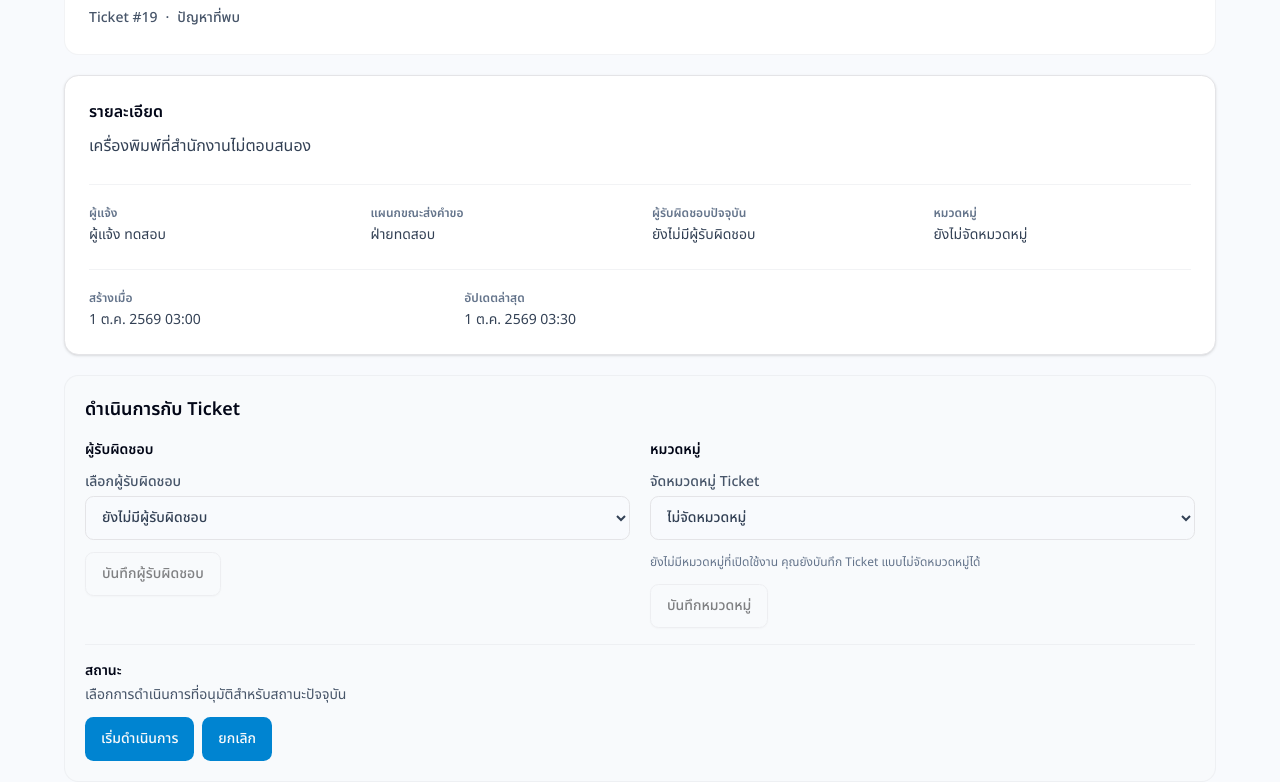
Test case: ITTicketOperatorDetail terminal transition confirmation › requires cancellation confirmation from OPEN
The width and height of the screenshot is (1280, 782).
(page scrolled)
Expected: the text "Ticket #19·ปัญหาที่พบ" is shown, x1=89 y1=6 x2=240 y2=28
Click the button "ยกเลิก": [237, 738] box x1=202 y1=716 x2=272 y2=760
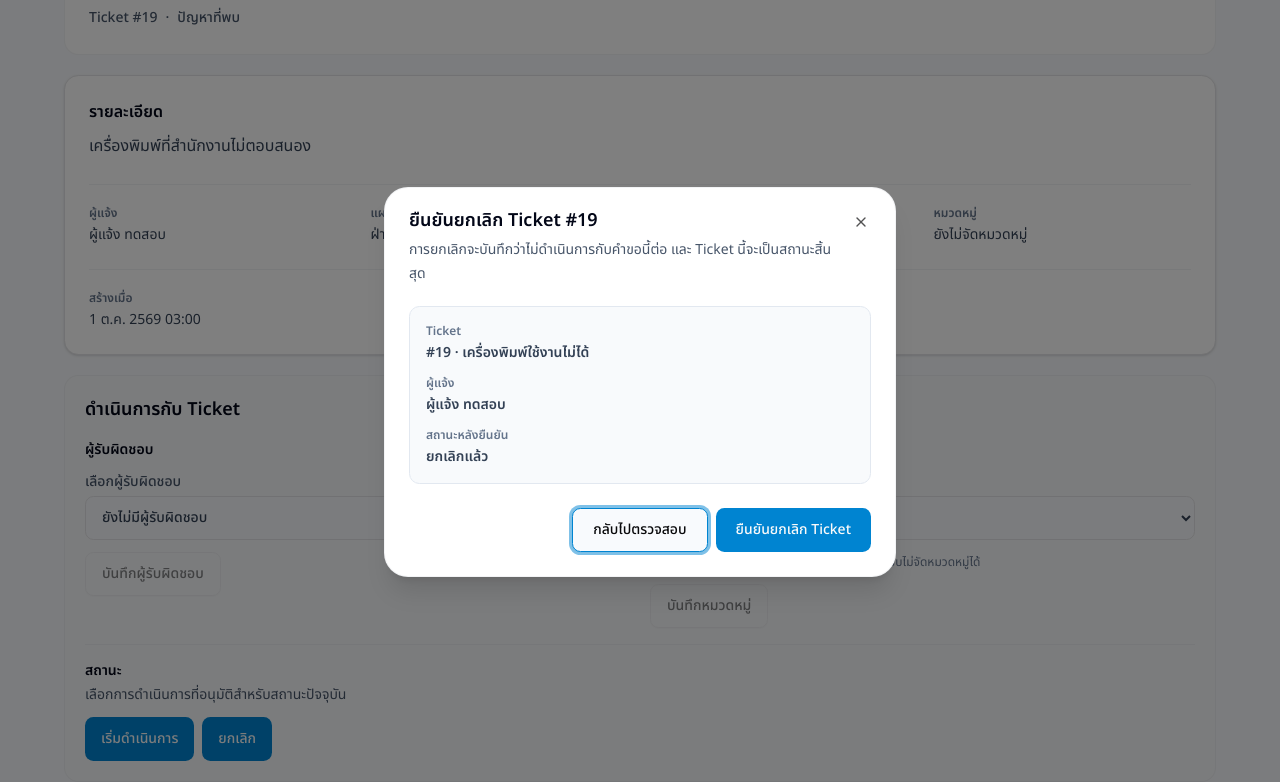
Now the heading "ยืนยันยกเลิก Ticket #19" is shown, box x1=409 y1=207 x2=598 y2=234
Now the text "ผู้แจ้ง ทดสอบ" is shown, box x1=426 y1=394 x2=506 y2=415
Now the text "ยกเลิกแล้ว" is shown, box x1=426 y1=446 x2=488 y2=467
Click the button "กลับไปตรวจสอบ": [640, 530] box x1=572 y1=508 x2=708 y2=552
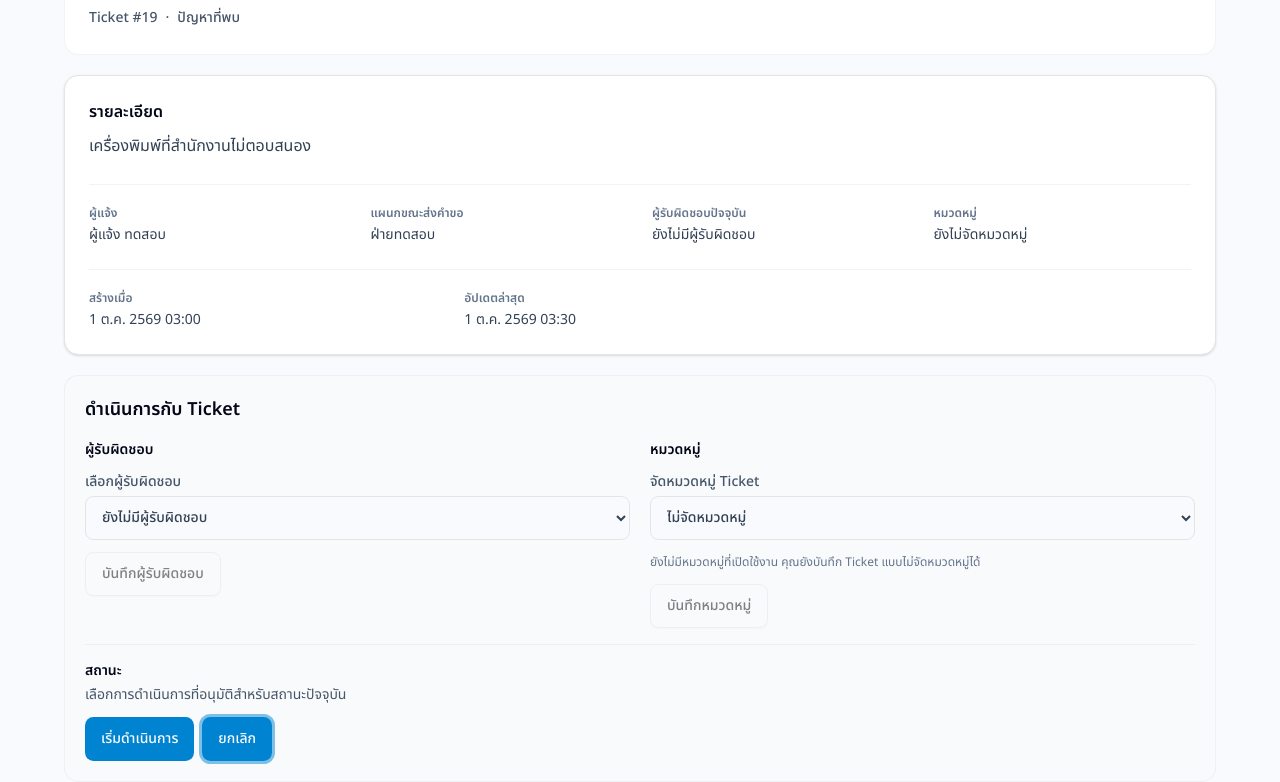
Now the dialog is gone
